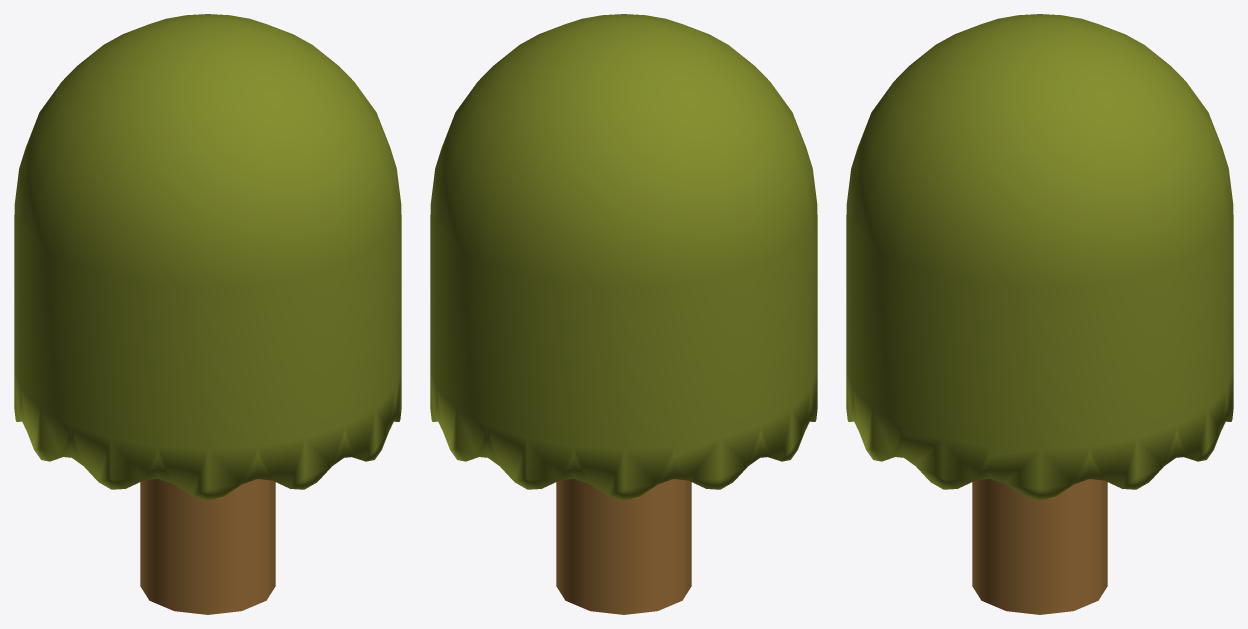
File: tree7.fbx
3 renders of one model, left to right at view 1: azimuth 30°, elevation 25°; view 2: azimuth 150°, elevation 25°; view 3: azimuth 270°, elevation 25°, orthographic.
Parts seen in each view (by area): view 1: tree.006; view 2: tree.006; view 3: tree.006.
Part boxes in pixels (x1=…): tree.006: x1=14, y1=14, x2=401, y2=614; tree.006: x1=430, y1=14, x2=817, y2=614; tree.006: x1=846, y1=14, x2=1233, y2=614.
Size of the model in its own units: 146 by 230 by 146.
